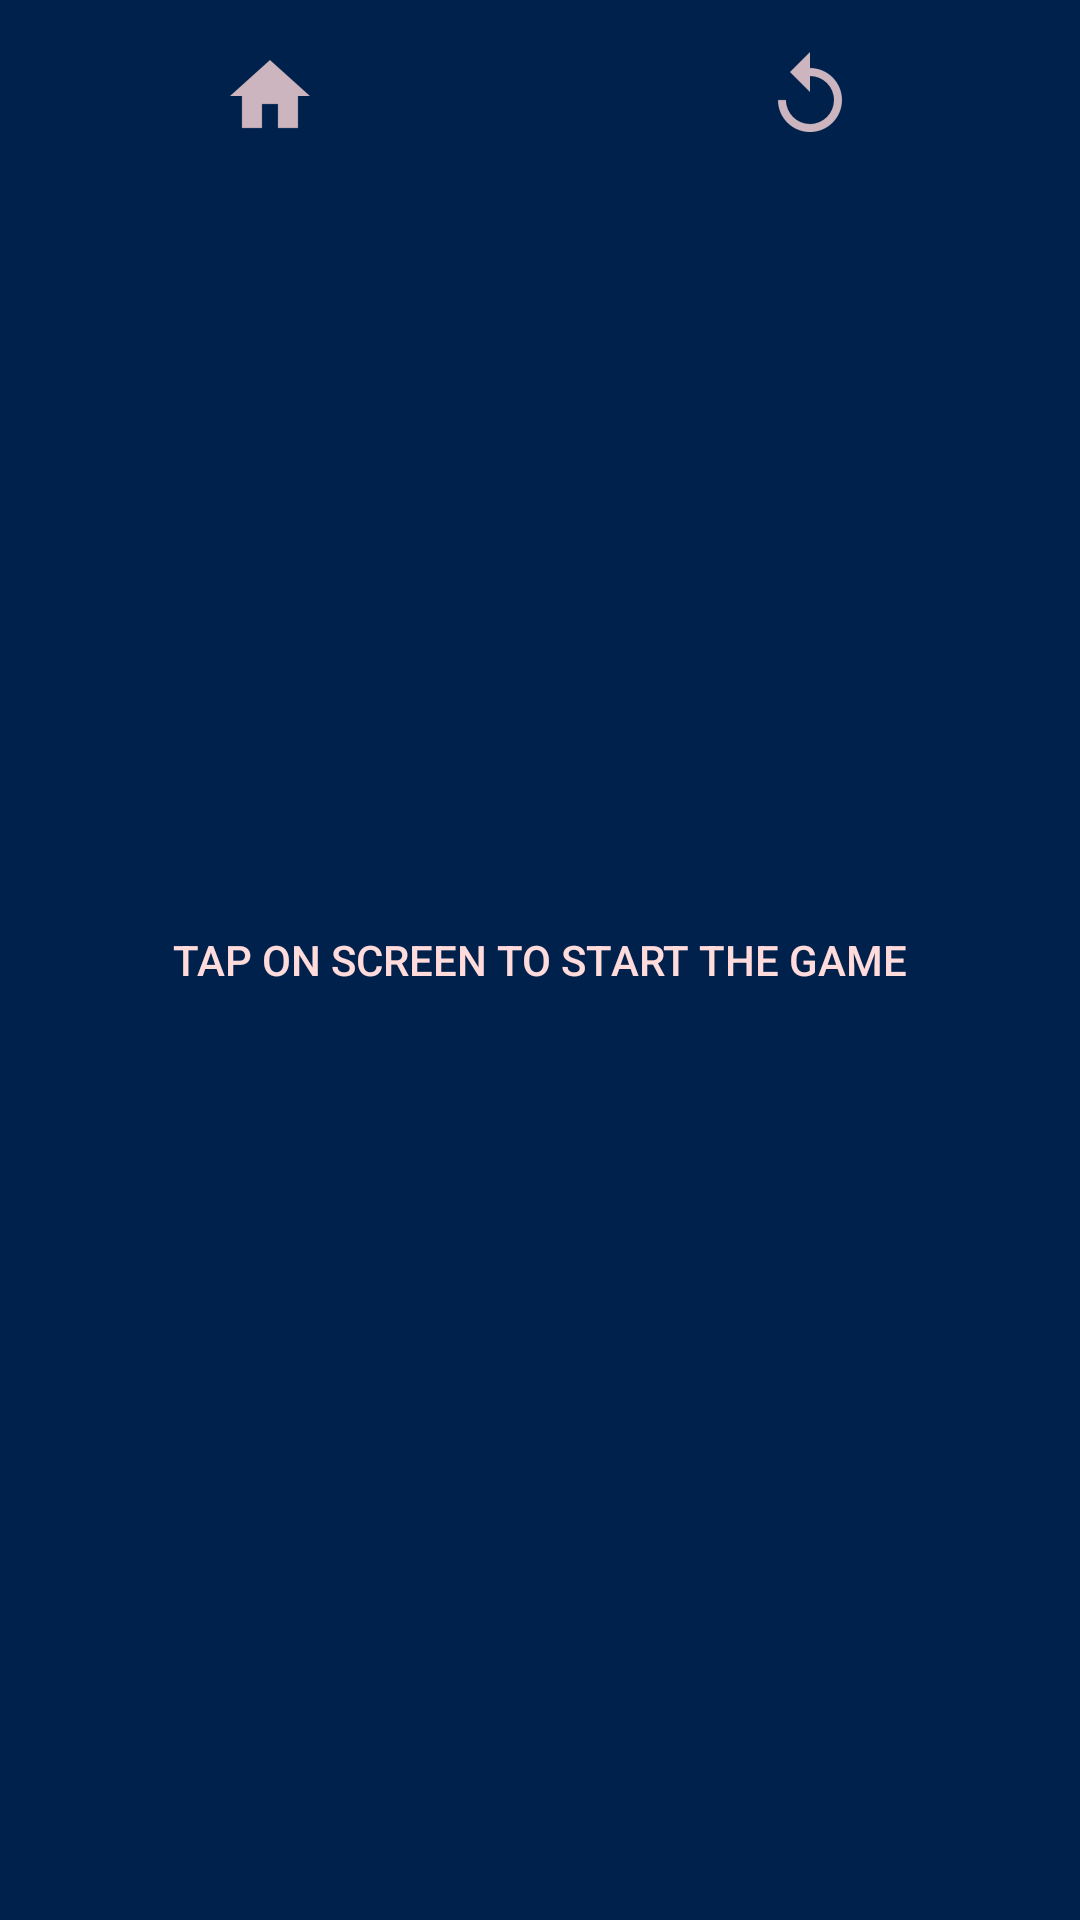

Point at icon controls on the screen. Image size 1080×1920, points as point (x, y).
home: point (270, 94)
replay: point (810, 92)
